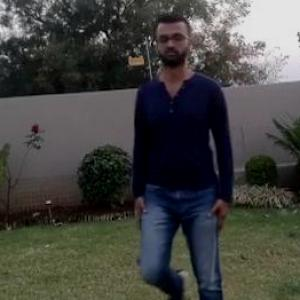follow: (120, 10, 228, 299)
